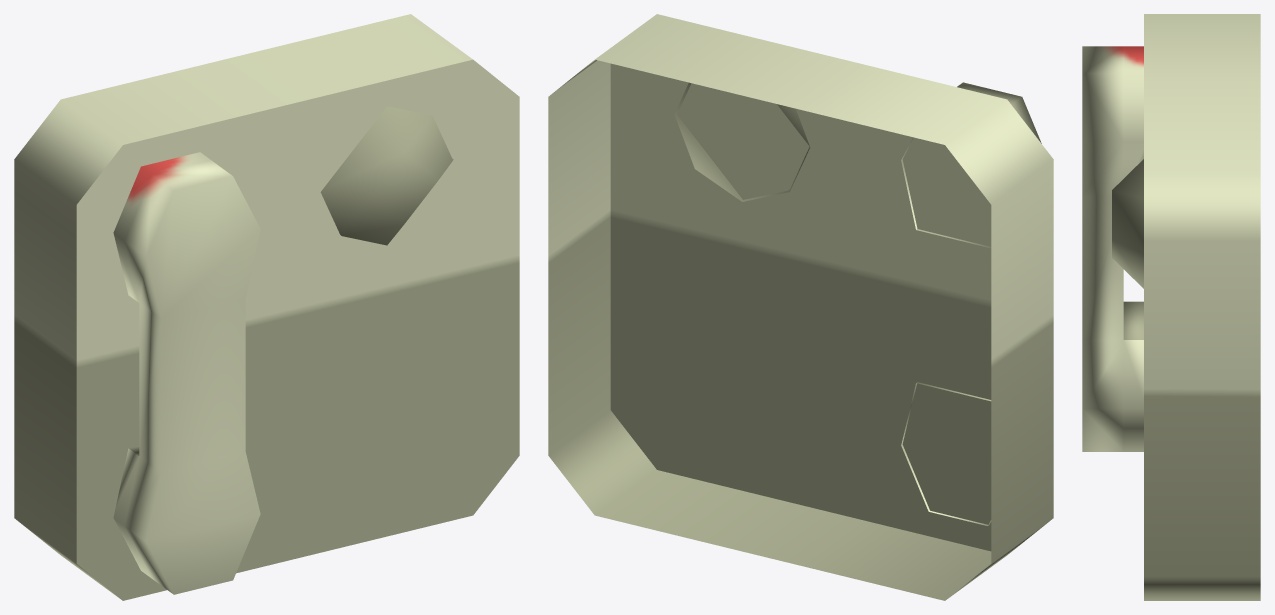
Rendered from PhoneWall.fbx.
3 views of the same model, side by side, from view 1: azimuth 30°, elevation 25°; view 2: azimuth 150°, elevation 25°; view 3: azimuth 270°, elevation 25° (orthographic). The views are drawn at different scales.
Visible parts, largest first — view 1: PhoneWall, LampRed; view 2: PhoneWall, LampRed; view 3: PhoneWall, LampRed.
Part boxes in pixels (x1,y1,x2,y2): PhoneWall: (14, 14, 519, 600); LampRed: (320, 106, 453, 245); PhoneWall: (548, 14, 1053, 600); LampRed: (674, 82, 810, 201); PhoneWall: (1082, 14, 1260, 600); LampRed: (1112, 159, 1143, 288).
Bounding box in the file's own units: 42.99 × 42.28 × 16.01.
